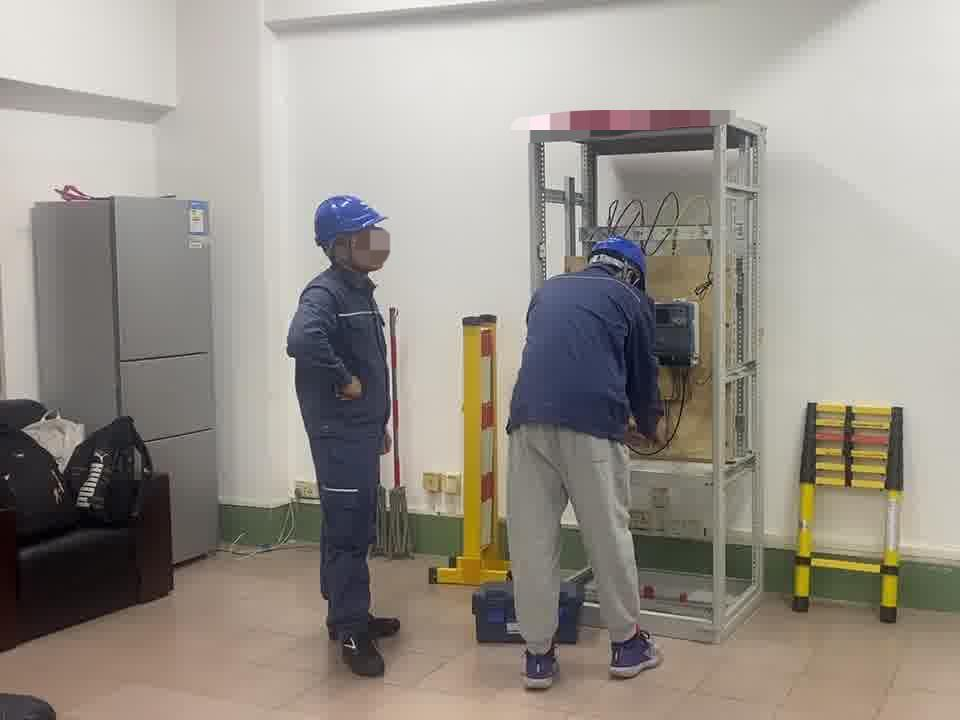halt: (315, 197, 391, 276), (592, 239, 653, 290)
inear: (327, 235, 361, 268)
